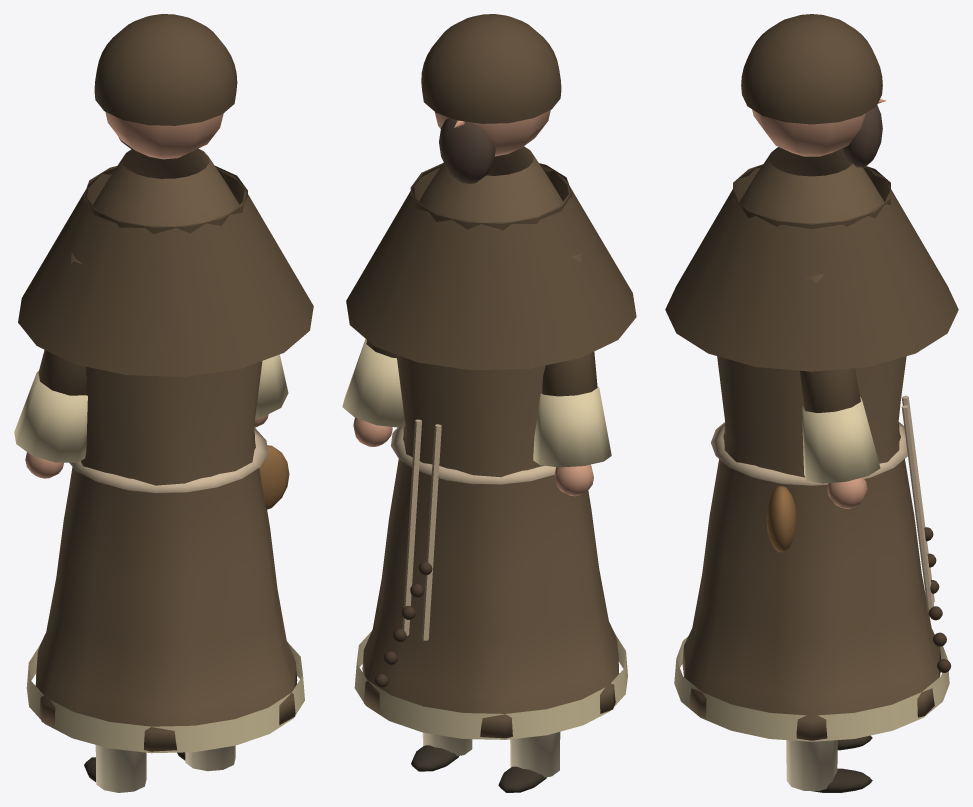
File: monk.glb
3 views of the same model, side by side, from view 1: azimuth 30°, elevation 25°; view 2: azimuth 150°, elevation 25°; view 3: azimuth 270°, elevation 25° (orthographic).
Visible parts, largest first — view 1: Robe, Cape, Hood, LiningBand, Cuff_-1, Head, Cincture, Pants_-1, Collar, Sleeve_-1, Cuff_1, Pouch (+2 smaller); view 2: Robe, Cape, Hood, LiningBand, Cuff_-1, Cuff_1, Beard, Sleeve_-1, Cincture, Pants_-1, Head, Strip0 (+7 smaller); view 3: Robe, Cape, Hood, LiningBand, Cuff_1, Head, Sleeve_1, Pants_1, Cincture, Pouch, Strip1, Collar (+3 smaller).
Boxes of the visible parts, x1,y1,x2,y2 form: Robe: [35, 148, 297, 751]; Cape: [18, 167, 313, 376]; Hood: [94, 14, 237, 125]; LiningBand: [26, 642, 304, 753]; Cuff_-1: [14, 371, 87, 462]; Head: [105, 112, 223, 159]; Cincture: [69, 427, 267, 493]; Pants_-1: [95, 745, 146, 792]; Collar: [83, 166, 247, 234]; Sleeve_-1: [38, 252, 86, 395]; Cuff_1: [255, 354, 288, 417]; Pouch: [259, 445, 289, 509]; Robe: [362, 146, 619, 738]; Cape: [346, 164, 636, 370]; Hood: [421, 14, 561, 123]; LiningBand: [354, 631, 627, 739]; Cuff_-1: [533, 387, 611, 467]; Cuff_1: [342, 339, 405, 427]; Beard: [439, 118, 495, 183]; Sleeve_-1: [542, 251, 597, 396]; Cincture: [391, 426, 555, 484]; Pants_-1: [510, 732, 560, 777]; Head: [434, 110, 550, 156]; Strip0: [421, 424, 441, 640]; Robe: [682, 147, 941, 740]; Cape: [665, 165, 958, 371]; Hood: [741, 14, 882, 124]; LiningBand: [674, 637, 949, 741]; Cuff_1: [802, 396, 880, 483]; Head: [752, 109, 865, 156]; Sleeve_1: [799, 273, 860, 412]; Pants_1: [786, 740, 837, 790]; Cincture: [711, 422, 907, 485]; Pouch: [766, 486, 796, 552]; Strip1: [901, 405, 934, 612]; Collar: [733, 164, 890, 228].
Bounding box in the file's own units: 0.5928 × 1.63 × 0.58.
